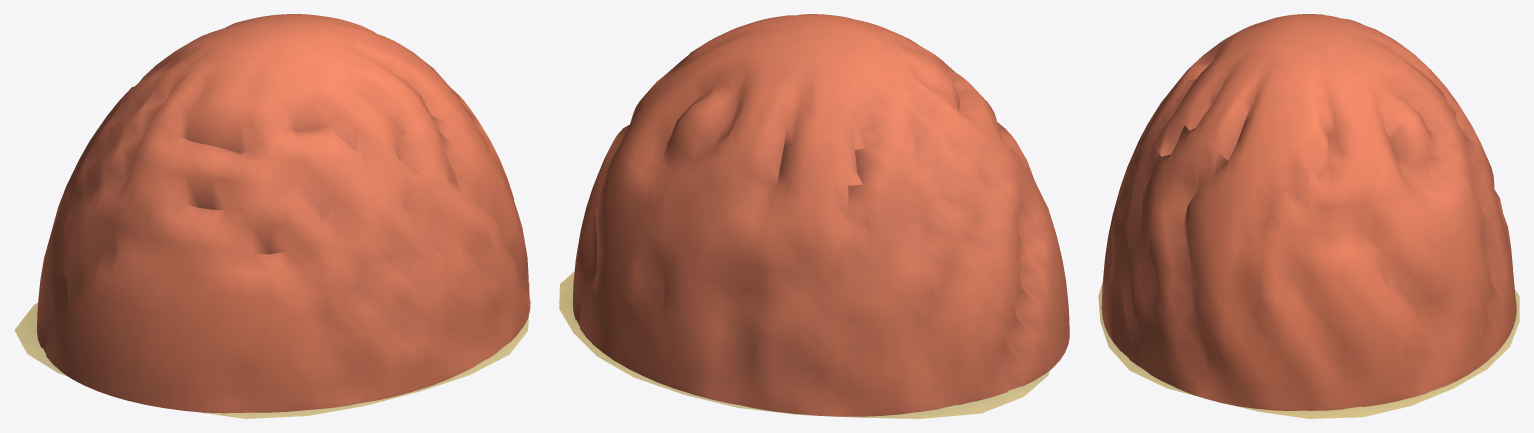
Rendered from CC_P04_DomeCoral.fbx.
The picture shows the model from 3 angles, left to right: view 1: azimuth 30°, elevation 25°; view 2: azimuth 150°, elevation 25°; view 3: azimuth 270°, elevation 25°; orthographic projection. The views are drawn at different scales.
Visible parts, largest first — view 1: Dome, Sand; view 2: Dome, Sand; view 3: Dome, Sand.
Part boxes in pixels (x1,y1,x2,y2): Dome: [37, 14, 530, 413]; Sand: [14, 282, 529, 418]; Dome: [572, 14, 1069, 416]; Sand: [559, 271, 1049, 418]; Dome: [1101, 14, 1516, 410]; Sand: [1098, 282, 1519, 418].
Size of the model in its own units: 1.63 by 0.97 by 1.34.
